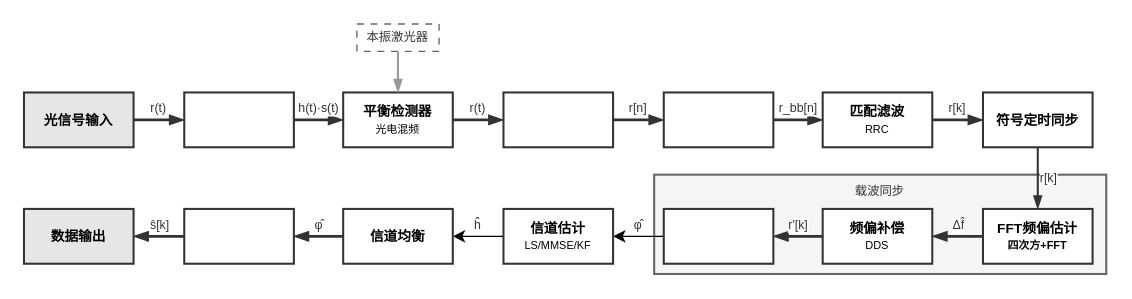
Image size: 1132x299. Some labels were removed from this diagram. The centre of each missing label's shape, as x and y in pixels:
"ADC 8 bit" goes at (557,119).
"DDC 数字下变频" goes at (718,119).
"光学系统 望远镜/滤波" goes at (238,119).
"符号判决" goes at (238,235).
"载波相位恢复 VV/BPS/DPLL" goes at (718,235).
